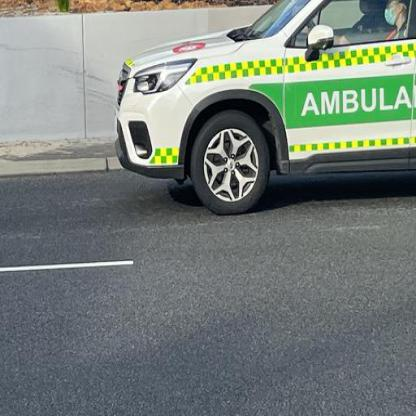Tire: (190, 110, 270, 215)
